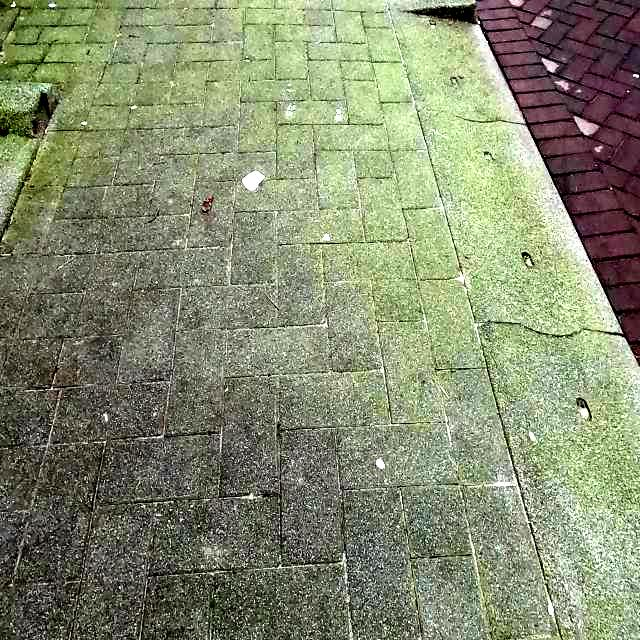Paper: (242, 170, 266, 190)
